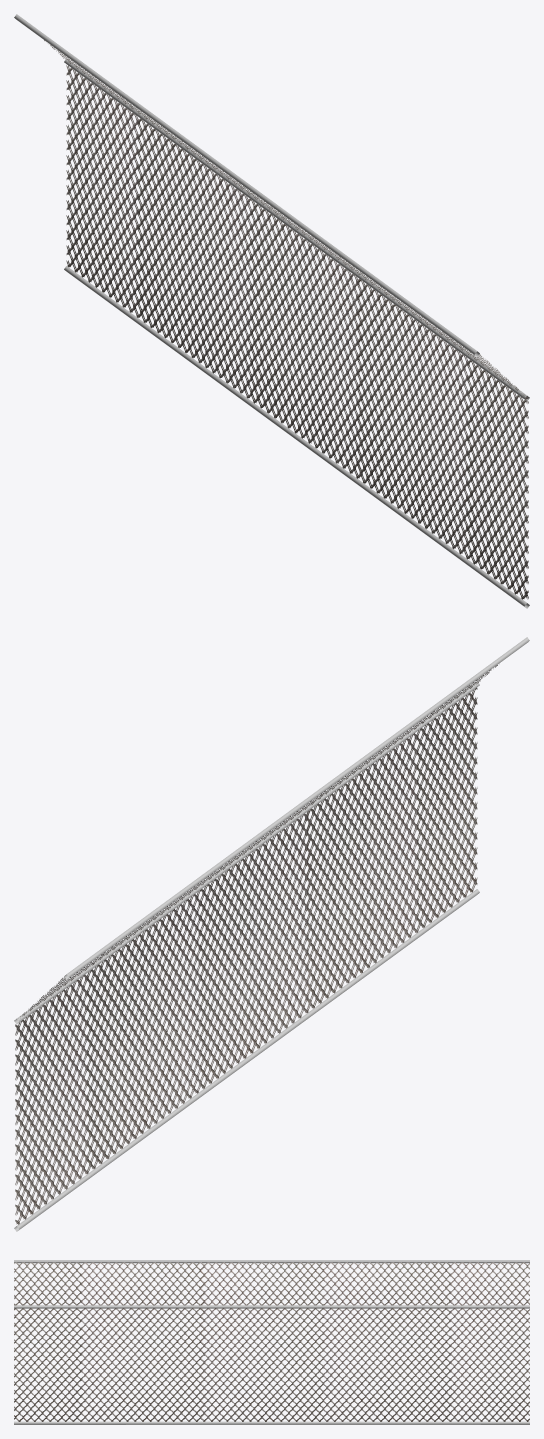
File: Fence_01.fbx
3 views of the same model, one above another, from view 1: azimuth 30°, elevation 25°; view 2: azimuth 150°, elevation 25°; view 3: azimuth 270°, elevation 25° (orthographic). The views are drawn at different scales.
Parts seen in each view (by area): view 1: Fence_00, Fence_01; view 2: Fence_00, Fence_01; view 3: Fence_00, Fence_01.
Part boxes in pixels (x1,y1,x2,y2): Fence_00: [44, 40, 528, 599]; Fence_01: [14, 14, 529, 608]; Fence_00: [15, 665, 497, 1224]; Fence_01: [14, 637, 529, 1231]; Fence_00: [14, 1262, 529, 1421]; Fence_01: [14, 1260, 529, 1424].
Bounding box in the file's own units: 31.2 × 145 × 449.
